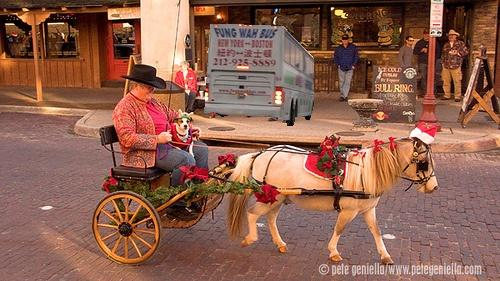tampered: (205, 25, 314, 126)
